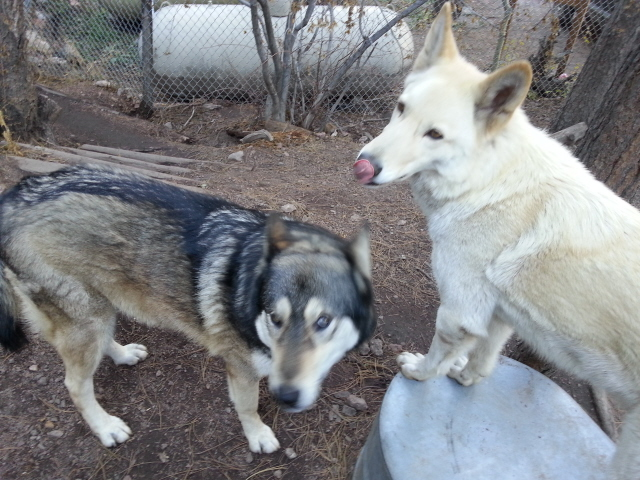dog: (353, 3, 640, 432)
wolf: (1, 170, 378, 453)
